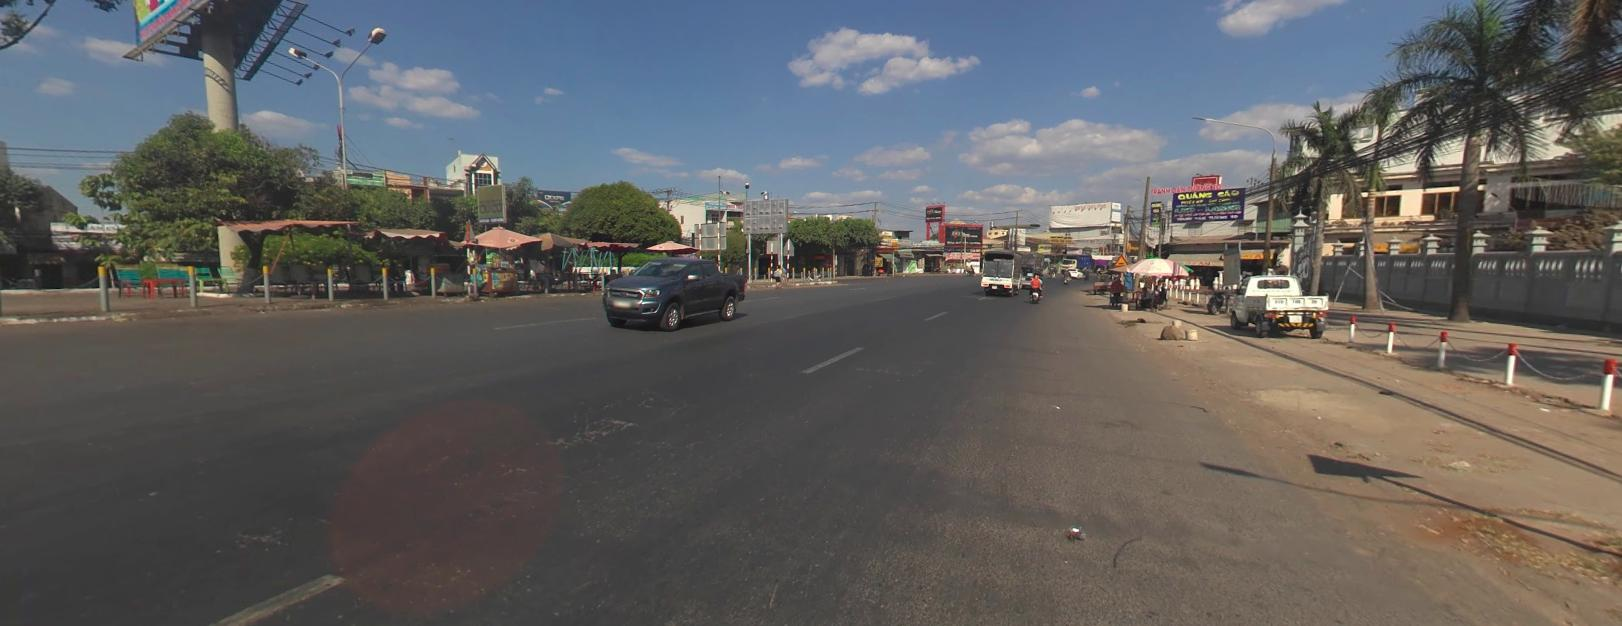Nguy hiem: (1114, 254, 1129, 266)
